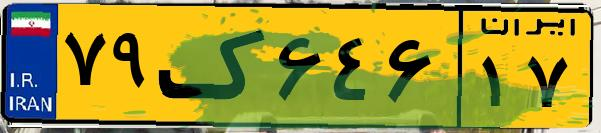1: (475, 38, 525, 113)
4: (330, 28, 385, 110)
6: (270, 28, 330, 110), (385, 28, 445, 110)
7: (57, 26, 110, 100), (525, 38, 570, 115)
9: (110, 28, 158, 98)
ک: (158, 12, 270, 120)
